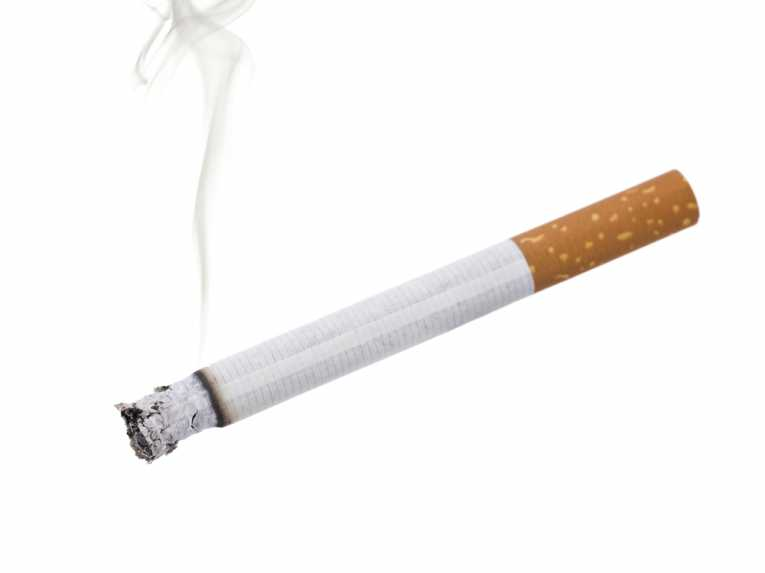cigarette: (81, 153, 725, 490)
